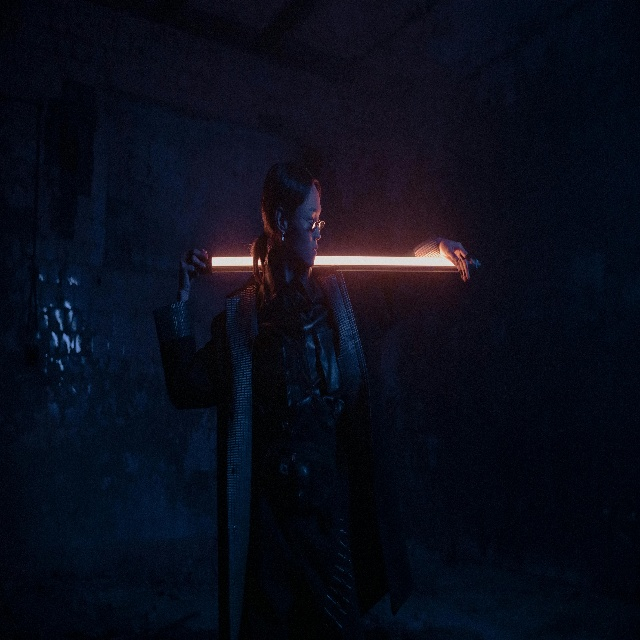Gafas: (309, 217, 325, 235)
Sin_guantes: (437, 235, 477, 279), (175, 247, 207, 295)
